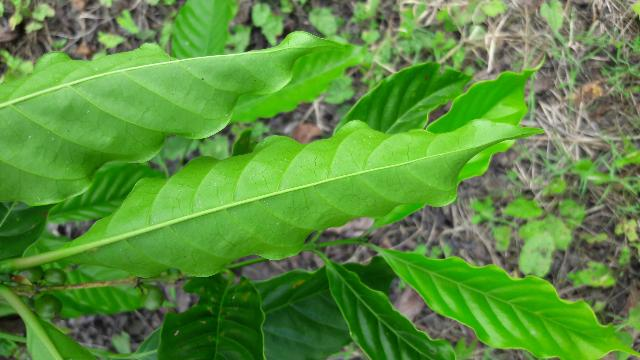healthy: (46, 113, 552, 280)
